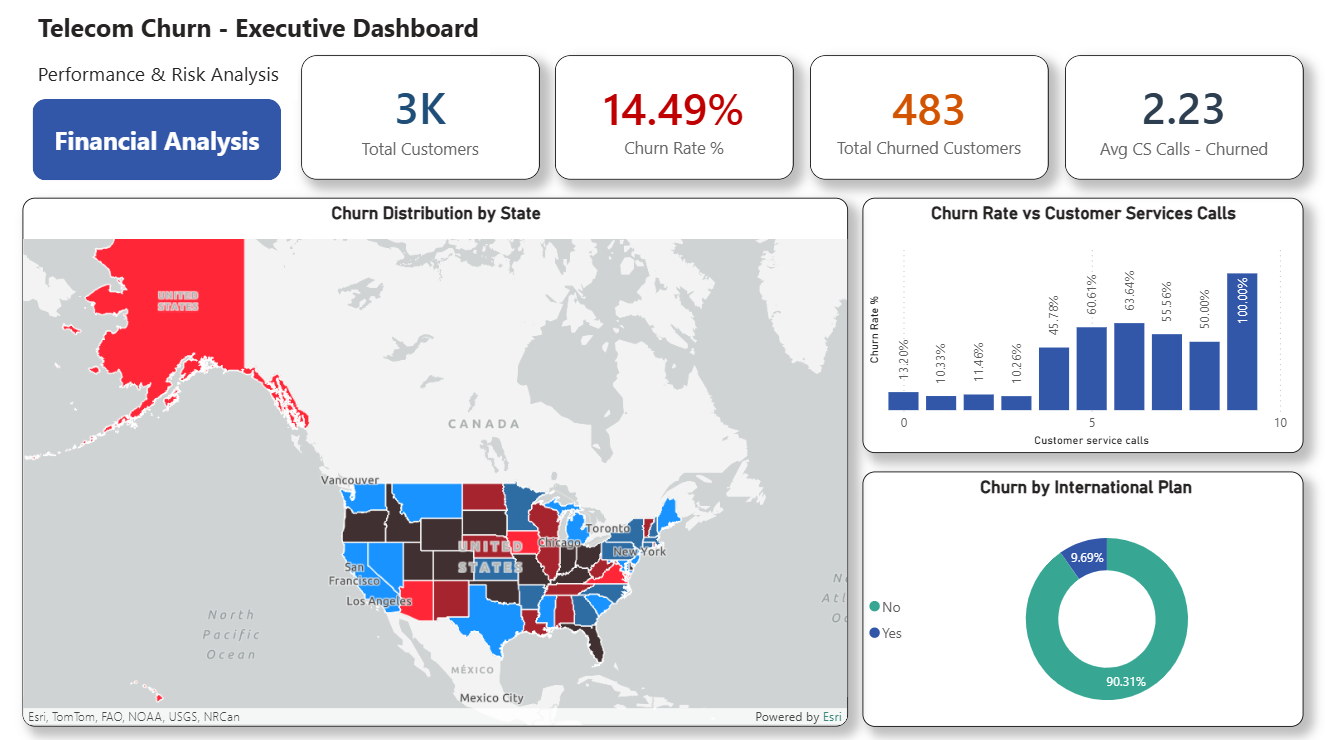

This screenshot's page, from the dashboard's own definition file:
{"tool":"powerbi","page":{"name":"Excutive Overview","canvas":[1280,720],"ordinal":0},"visuals":[{"type":"cardVisual","fields":{"Data":["telecom_churn_master.Total Customers"]},"box":[290.3,59.4,230,120],"z":0},{"type":"cardVisual","fields":{"Data":["telecom_churn_master.Churn Rate %"]},"box":[536,59.4,230,120],"z":1000},{"type":"cardVisual","fields":{"Data":["telecom_churn_master.Total Churned Customers"]},"box":[781.7,59.4,230,120],"z":2000},{"type":"clusteredColumnChart","title":"Churn Rate vs Customer Services Calls","fields":{"Category":["telecom_churn_master.Customer service calls"],"Y":["telecom_churn_master.Churn Rate %"]},"box":[832.9,197.1,425.4,246],"z":3000},{"type":"donutChart","title":"Churn by International Plan","fields":{"Category":["telecom_churn_master.International plan"],"Y":["telecom_churn_master.Total Customers"]},"box":[832.9,461.4,425.4,246],"z":4000},{"type":"cardVisual","fields":{"Data":["telecom_churn_master.Avg CS Calls - Churned"]},"box":[1027.4,59.4,230,120],"z":5000},{"type":"esriVisual","title":"Churn Distribution by State","fields":{"Color":["telecom_churn_master.Churn Rate %"],"Location":["telecom_churn_master.State"]},"box":[21.4,197.1,797.1,510],"z":6000},{"type":"textbox","box":[31.4,11.4,441.4,47.1],"z":6001},{"type":"textbox","box":[31.4,58.6,255.7,42.9],"z":6002},{"type":"actionButton","box":[31.4,101.4,240,78.6],"z":6004}]}

Visuals, with their boxes in screenshot pixels (x1, y1, x2, y2), scaled from the page's 1280x720 canvas onto the 1325x740 screenshot:
cardVisual - telecom_churn_master.Total Customers: 301, 61, 539, 184
cardVisual - telecom_churn_master.Churn Rate %: 555, 61, 793, 184
cardVisual - telecom_churn_master.Total Churned Customers: 809, 61, 1047, 184
"Churn Rate vs Customer Services Calls" clusteredColumnChart: 862, 203, 1303, 455
"Churn by International Plan" donutChart: 862, 474, 1303, 727
cardVisual - telecom_churn_master.Avg CS Calls - Churned: 1064, 61, 1302, 184
"Churn Distribution by State" esriVisual: 22, 203, 847, 727
textbox: 33, 12, 489, 60
textbox: 33, 60, 297, 104
actionButton: 33, 104, 281, 185
